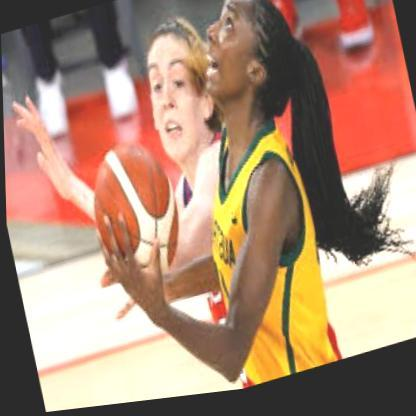basketball: (78, 130, 189, 298)
